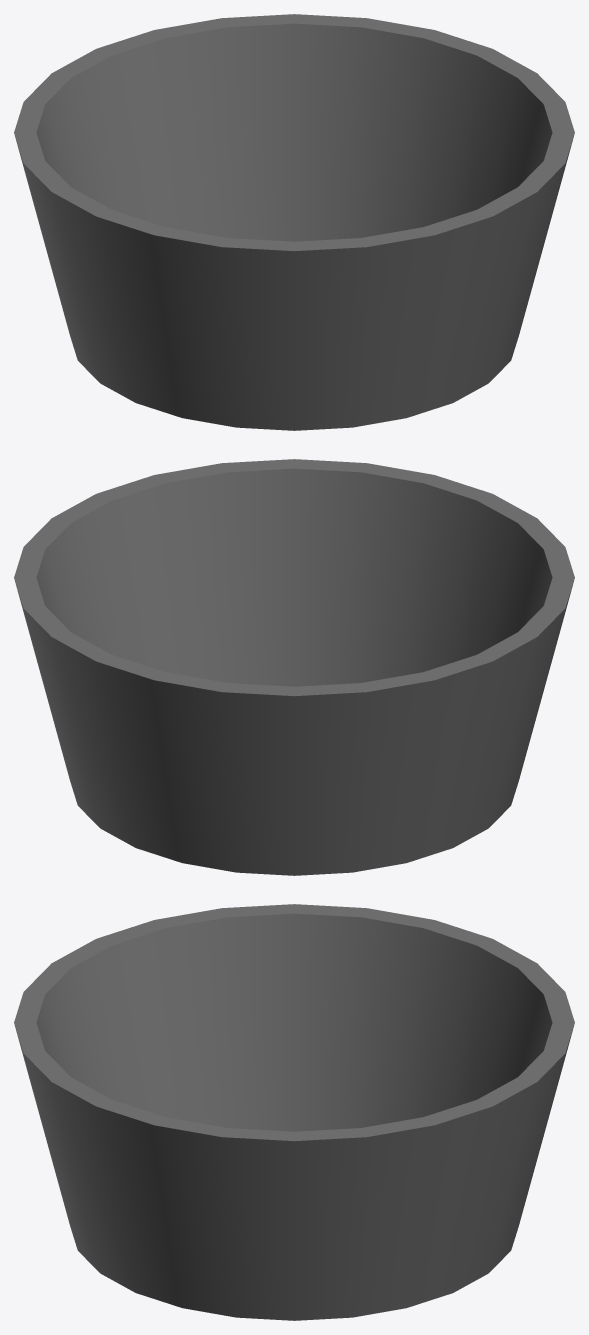
File: Alnair_Control_1_Fairing.obj
The picture shows the model from 3 angles, top to bottom: view 1: azimuth 30°, elevation 25°; view 2: azimuth 150°, elevation 25°; view 3: azimuth 270°, elevation 25°; orthographic projection.
Parts seen in each view (by area): view 1: Alnair_Control_1_Fairing; view 2: Alnair_Control_1_Fairing; view 3: Alnair_Control_1_Fairing.
Part boxes in pixels (x1,y1,x2,y2): Alnair_Control_1_Fairing: (14,14,574,430); Alnair_Control_1_Fairing: (14,459,574,875); Alnair_Control_1_Fairing: (14,904,574,1320).
Size of the model in its own units: 0.625 by 0.25 by 0.625.
